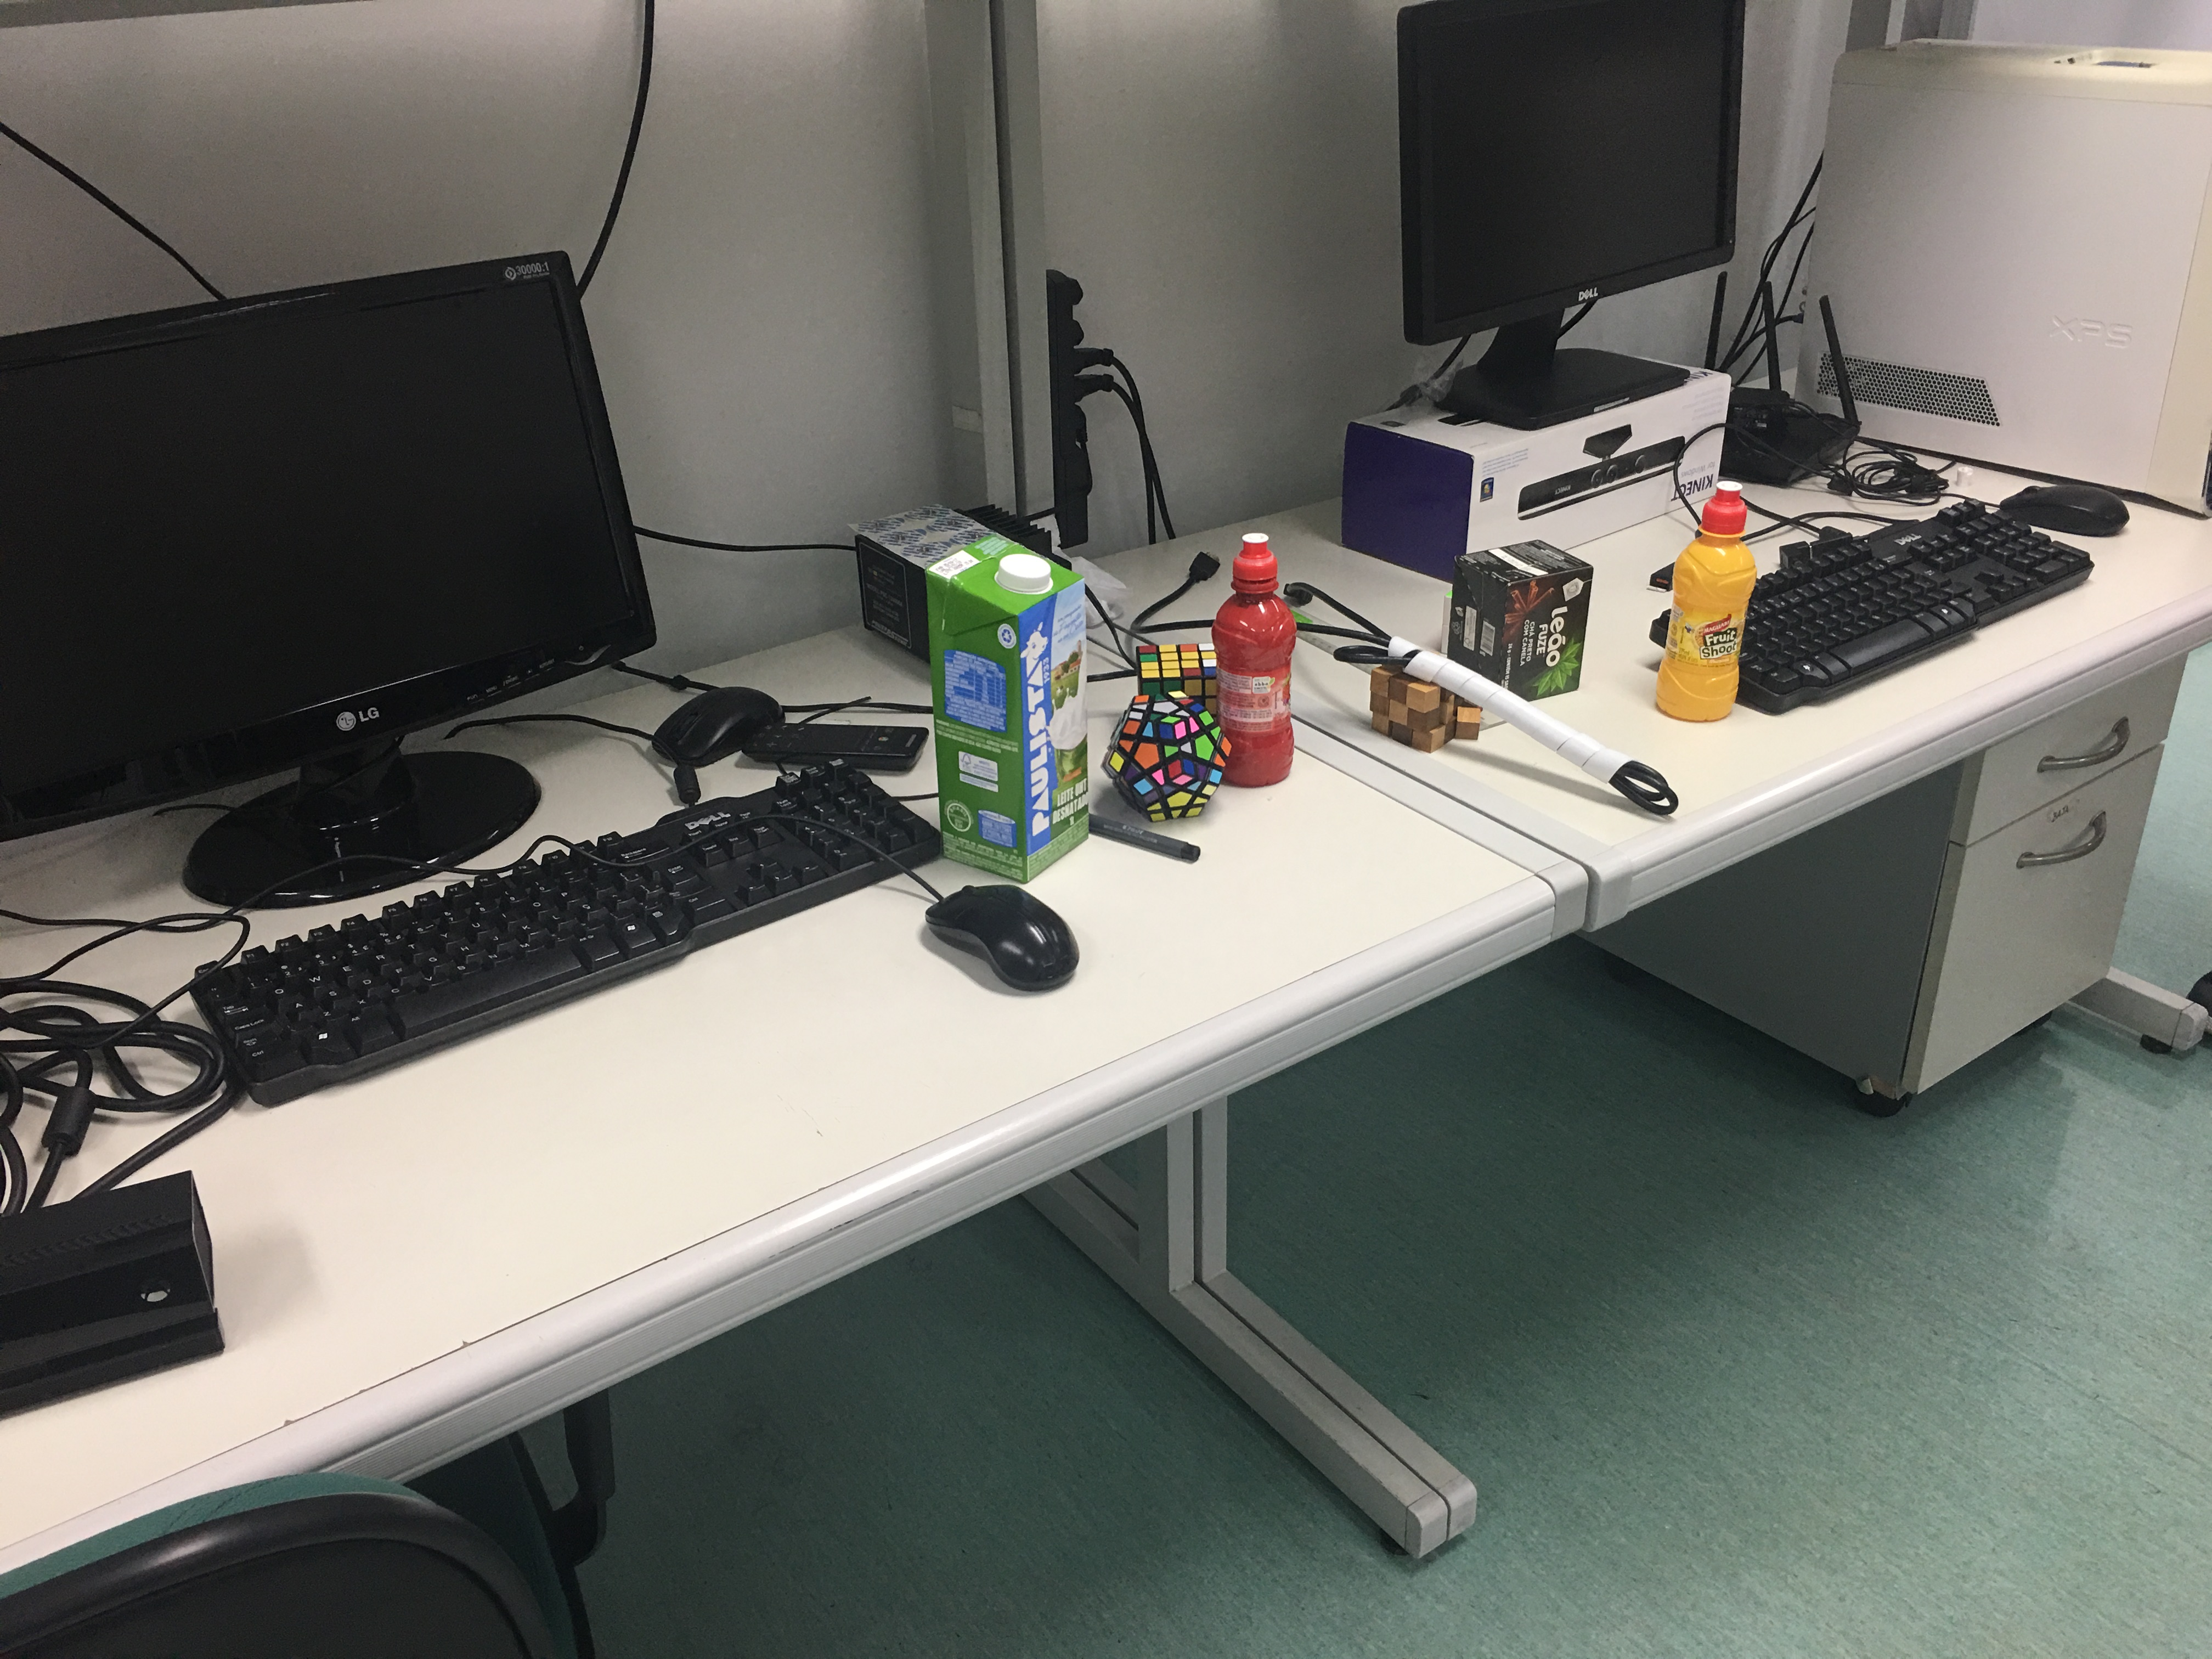milk_box: (927, 523, 1097, 884)
red_juice: (1204, 523, 1305, 795)
tea_box: (1453, 535, 1599, 713)
yellow_juice: (1656, 484, 1766, 735)
